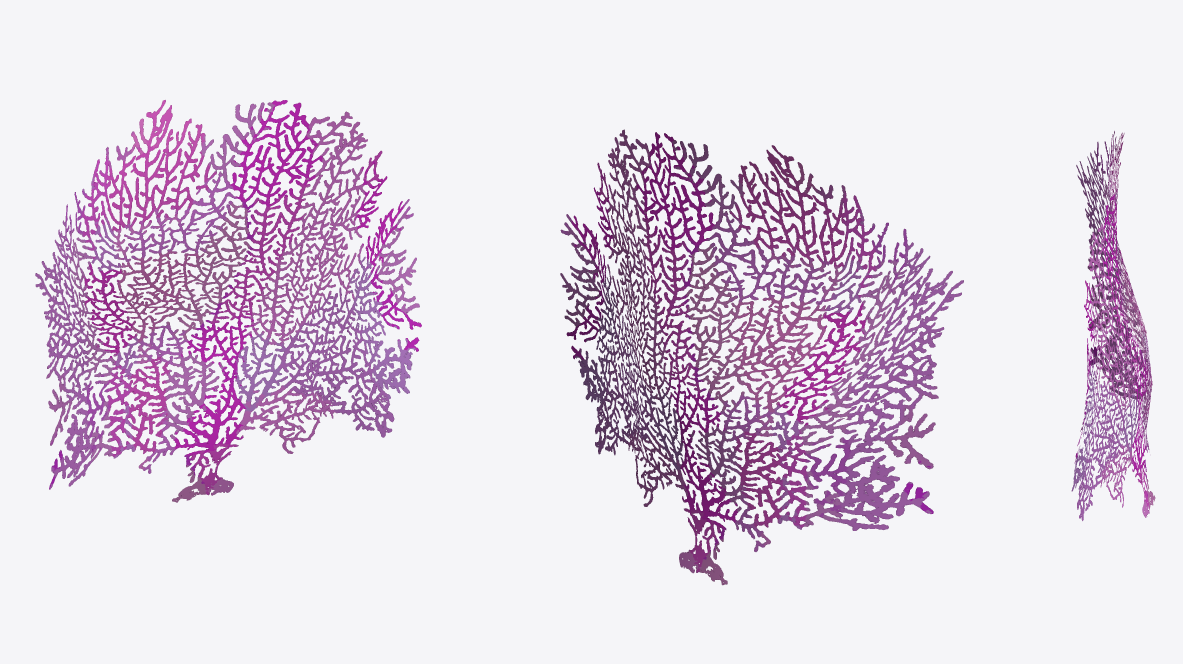
Rendered from 21-SeaFan.fbx.
3 views of the same model, side by side, from view 1: azimuth 30°, elevation 25°; view 2: azimuth 150°, elevation 25°; view 3: azimuth 270°, elevation 25° (orthographic). The views are drawn at different scales.
Parts seen in each view (by area): view 1: 21-SeaFan_LOD00; view 2: 21-SeaFan_LOD00; view 3: 21-SeaFan_LOD00.
Part boxes in pixels (bbox=[...]): 21-SeaFan_LOD00: bbox=[35, 100, 421, 502]; 21-SeaFan_LOD00: bbox=[560, 129, 963, 585]; 21-SeaFan_LOD00: bbox=[1071, 131, 1155, 520].
Size of the model in its own units: 94.93 by 100 by 26.63.
